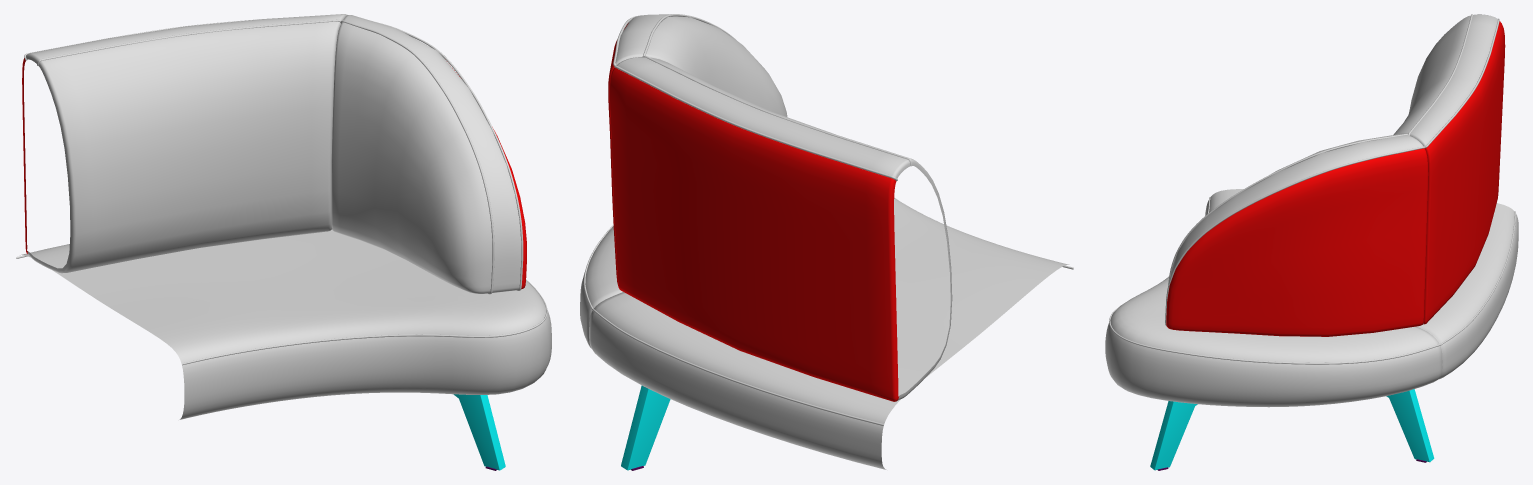
Rendered from testModel.gltf.
3 renders of one model, left to right at view 1: azimuth 30°, elevation 25°; view 2: azimuth 150°, elevation 25°; view 3: azimuth 270°, elevation 25°, orthographic. The views are drawn at different scales.
Visible parts, largest first — view 1: sofa_25, legs_sofa; view 2: sofa_25, legs_sofa; view 3: sofa_25, legs_sofa.
Part boxes in pixels (x1=…): sofa_25: x1=16, y1=14, x2=551, y2=419; legs_sofa: x1=453, y1=394, x2=505, y2=470; sofa_25: x1=580, y1=14, x2=1073, y2=469; legs_sofa: x1=621, y1=385, x2=670, y2=470; sofa_25: x1=1105, y1=14, x2=1518, y2=407; legs_sofa: x1=1150, y1=389, x2=1434, y2=470.
Size of the model in its own units: 0.9286 by 0.8761 by 1.01.
